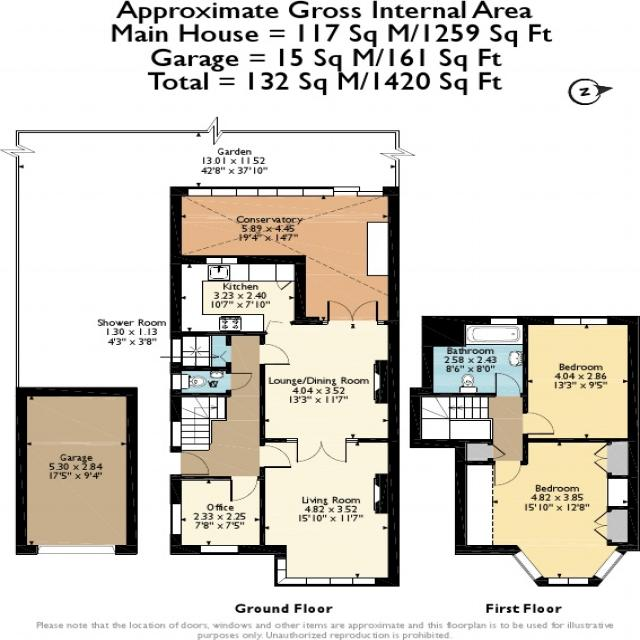DOOR: (170, 451, 211, 476), (523, 410, 558, 437), (492, 460, 523, 488), (228, 476, 260, 503), (259, 445, 292, 470), (493, 372, 523, 397), (260, 343, 292, 366), (226, 371, 254, 392)
ROOM: (170, 255, 400, 466), (455, 438, 640, 586), (258, 438, 398, 586), (523, 316, 640, 443), (170, 475, 266, 555)
WINDOW: (272, 556, 378, 588), (508, 547, 546, 583), (592, 547, 626, 583), (549, 314, 609, 326), (547, 576, 591, 588), (200, 544, 240, 556), (169, 503, 183, 536), (488, 314, 523, 325), (170, 372, 190, 391), (169, 420, 183, 447), (170, 338, 183, 364), (346, 437, 359, 443), (286, 438, 298, 443), (321, 320, 328, 326), (377, 320, 384, 326)
